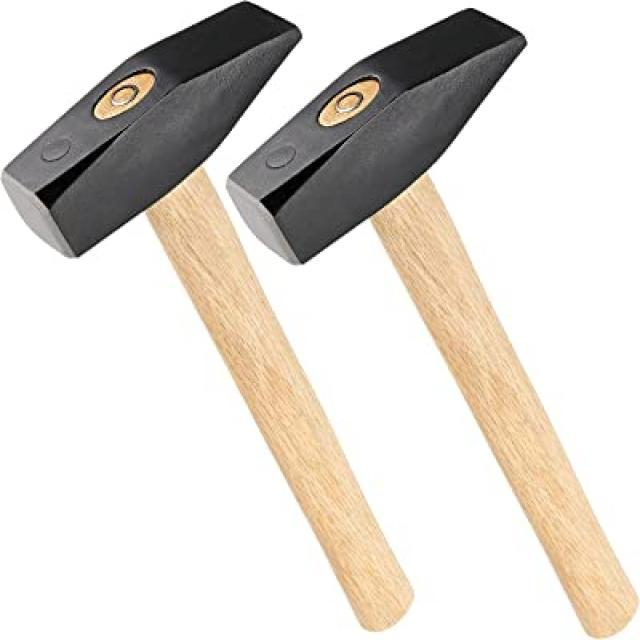hammer: (1, 0, 425, 638), (219, 0, 640, 640)
